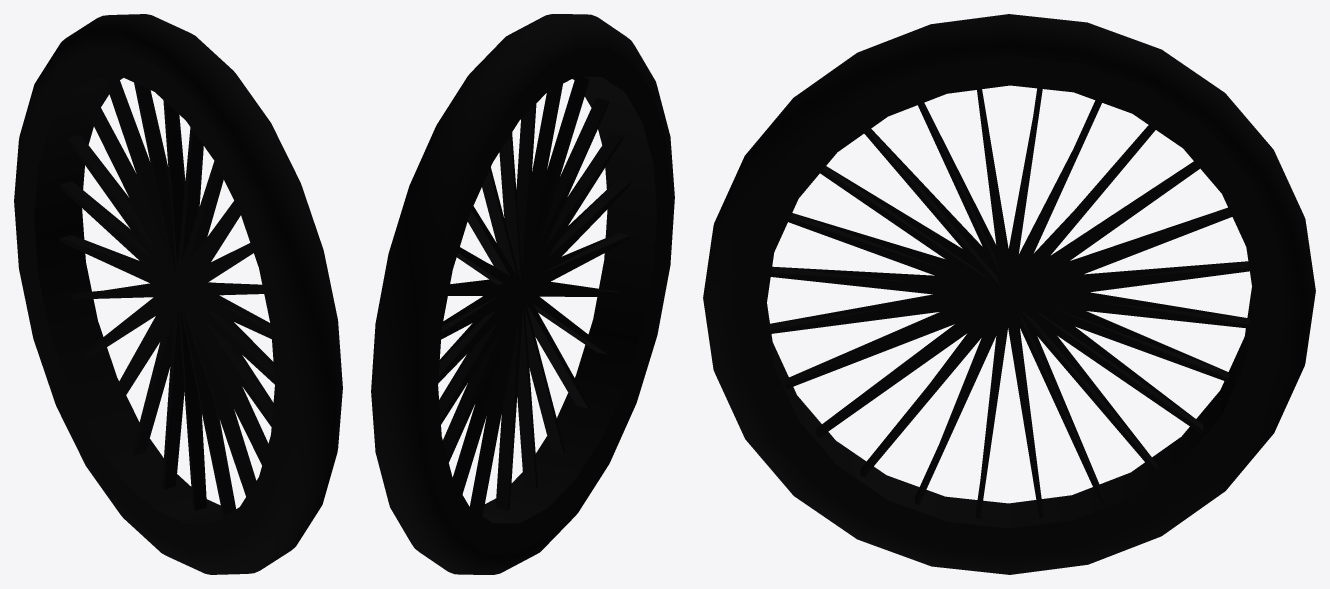
Rendered from ruedaTriciclo.obj.
3 views of the same model, side by side, from view 1: azimuth 30°, elevation 25°; view 2: azimuth 150°, elevation 25°; view 3: azimuth 270°, elevation 25° (orthographic). The views are drawn at different scales.
Parts seen in each view (by area): view 1: rueda; view 2: rueda; view 3: rueda.
Part boxes in pixels (x1=…): rueda: x1=14, y1=14, x2=342, y2=574; rueda: x1=371, y1=14, x2=674, y2=574; rueda: x1=703, y1=14, x2=1315, y2=574.
Size of the model in its own units: 10 by 82.4 by 82.37.
Materials: 1 (1 with a texture image).
